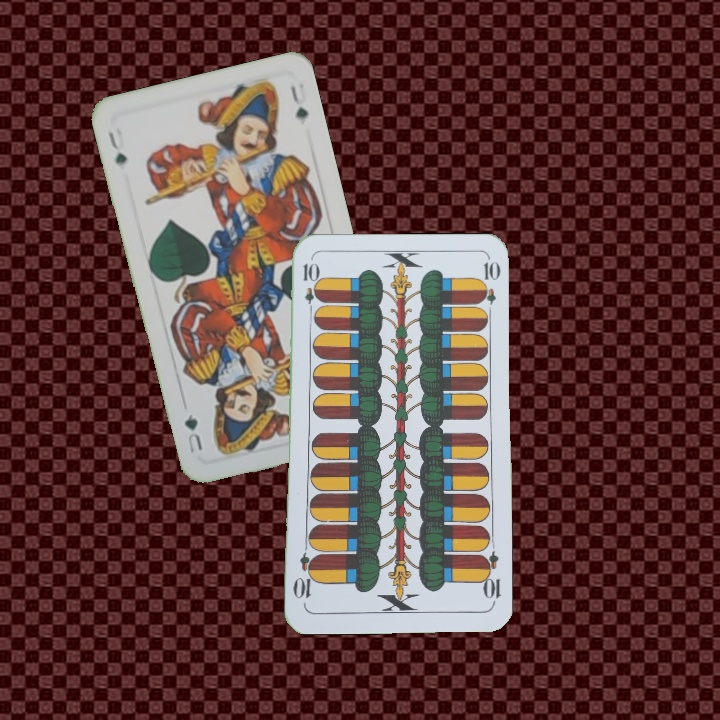E10: (477, 548, 503, 607), (299, 259, 317, 318)
GU: (104, 127, 130, 169)
